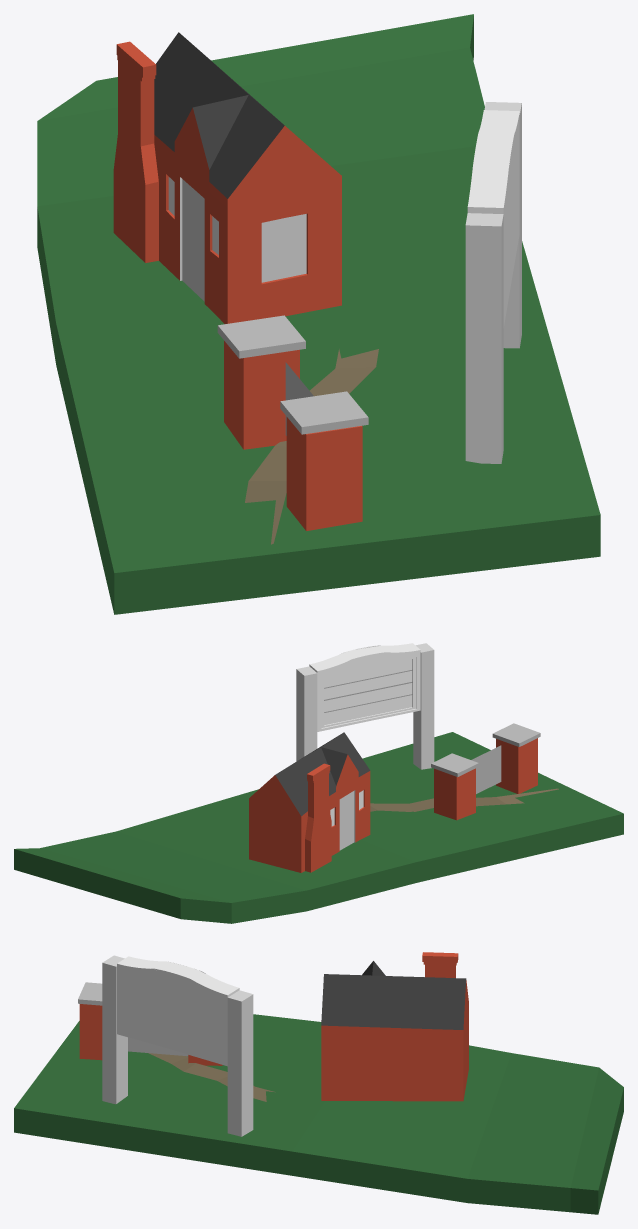
Rendered from uguardhouse.glb.
3 renders of one model, top to bottom at view 1: azimuth 30°, elevation 25°; view 2: azimuth 150°, elevation 25°; view 3: azimuth 270°, elevation 25°, orthographic. The views are drawn at different scales.
Parts seen in each view (by area): view 1: entrysign; view 2: entrysign; view 3: entrysign.
Boxes of the visible parts, <box> form: entrysign: <box>37,14,600,614</box>; entrysign: <box>14,643,623,923</box>; entrysign: <box>14,952,623,1214</box>.
Size of the model in its own units: 0.0735 by 0.0273 by 0.0845.
